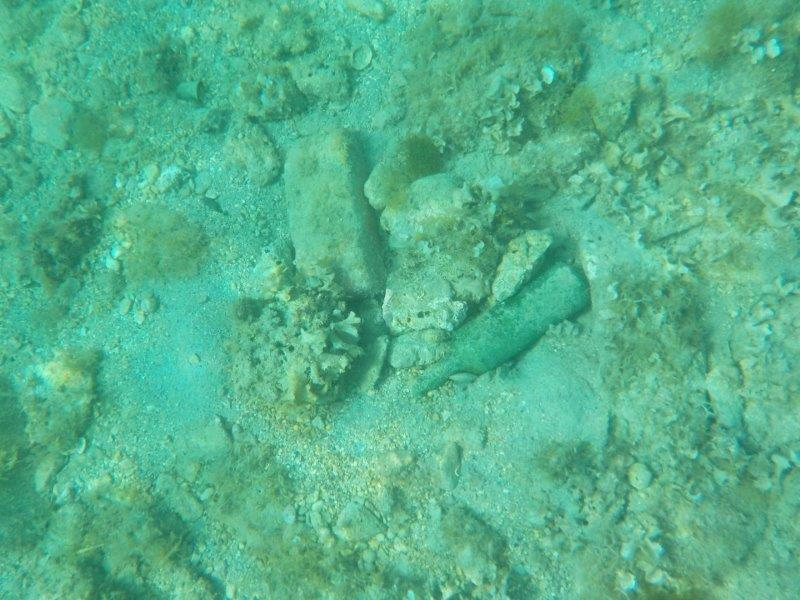bottle: (403, 256, 594, 398)
